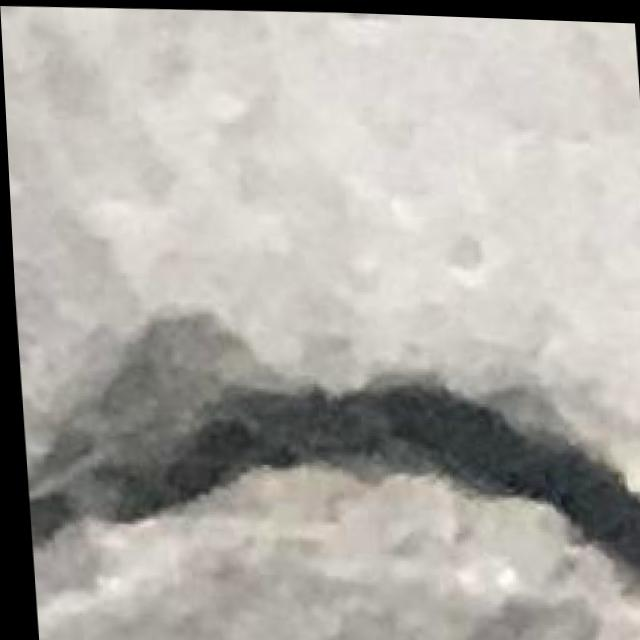Crack: (15, 278, 640, 610)
